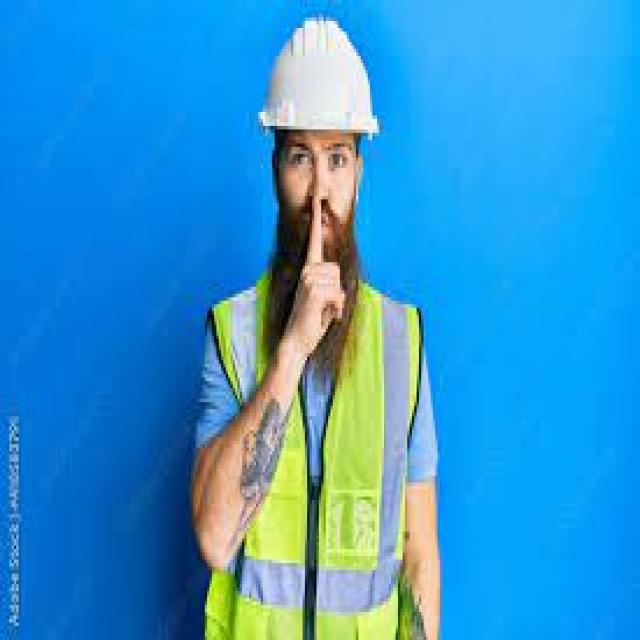reflective_jacket: (197, 265, 437, 636)
safety_helmet: (255, 13, 379, 150)
